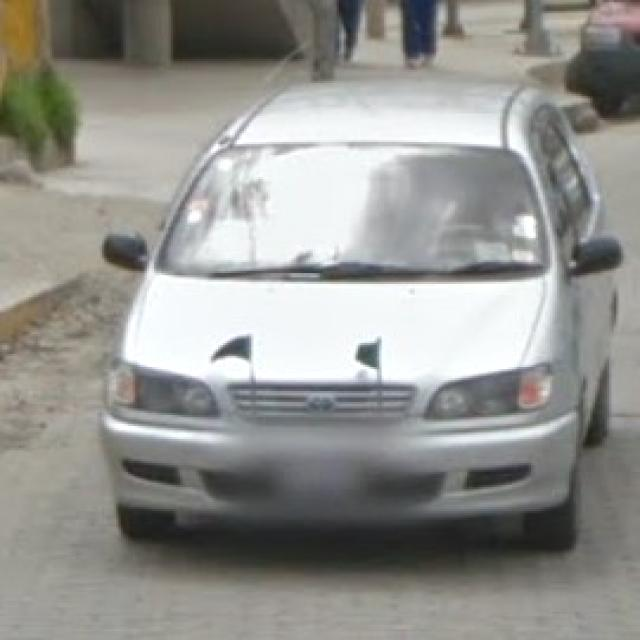car: (96, 89, 634, 593)
